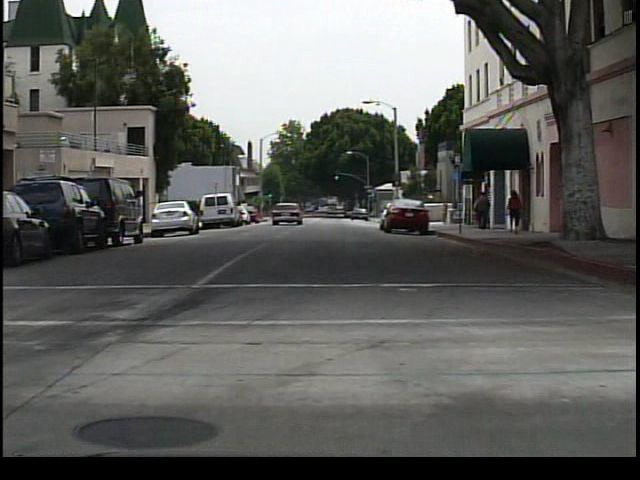person: (504, 185, 527, 236), (471, 190, 492, 233)
